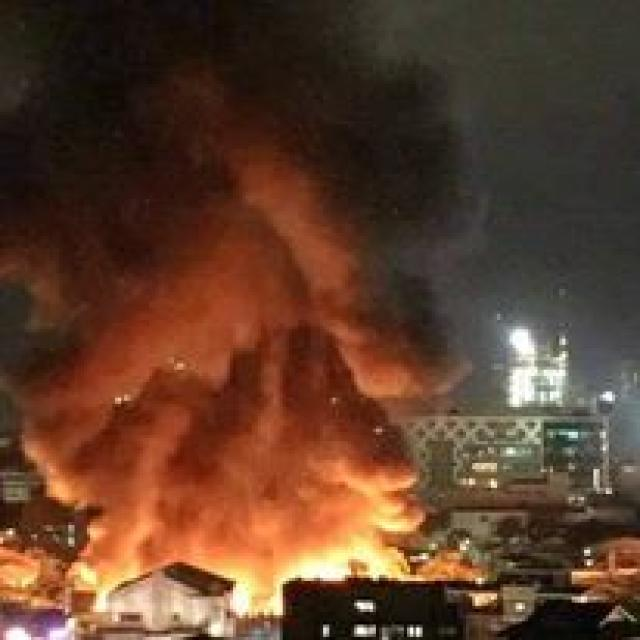Fire: (264, 524, 412, 583)
Smoke: (0, 0, 466, 556)
